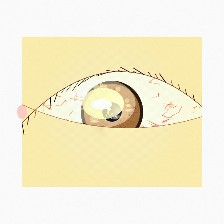corneal_ulcer: (69, 76, 137, 131)
